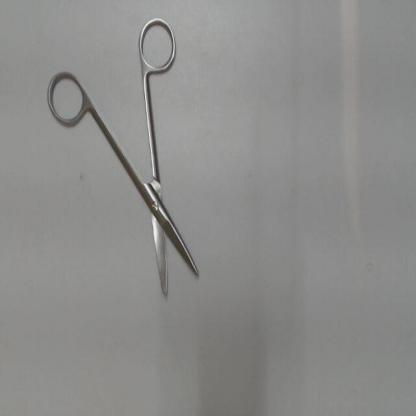Curved Mayo Scissors: (43, 11, 206, 301)
